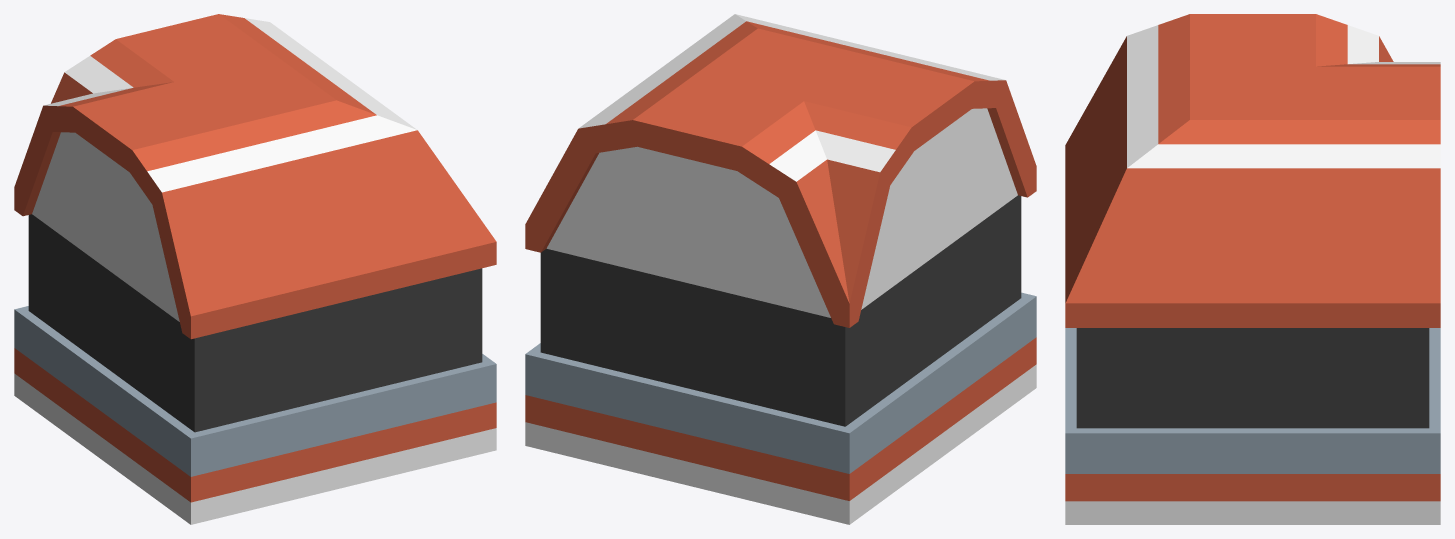
File: buildingCorner.glb
3 renders of one model, left to right at view 1: azimuth 30°, elevation 25°; view 2: azimuth 150°, elevation 25°; view 3: azimuth 270°, elevation 25°, orthographic. The views are drawn at different scales.
Visible parts, largest first — view 1: buildingCorner; view 2: buildingCorner; view 3: buildingCorner.
Part boxes in pixels (left/top/right/bottom): buildingCorner: left=14, top=14, right=496, bottom=524; buildingCorner: left=525, top=14, right=1036, bottom=524; buildingCorner: left=1065, top=14, right=1440, bottom=524.
Size of the model in its own units: 10 by 10.37 by 10.
